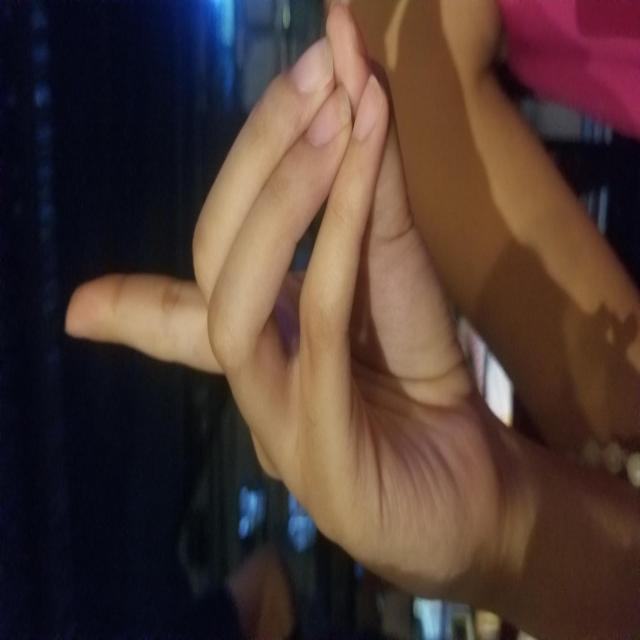D: (99, 65, 640, 476)
